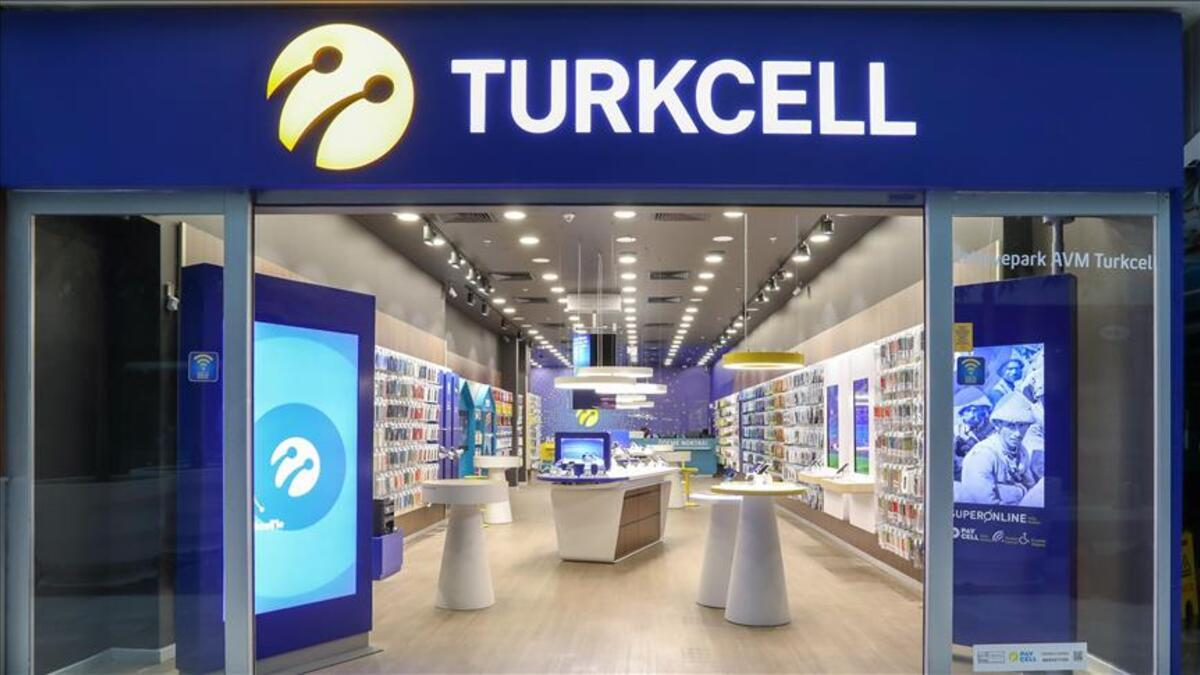turkcell: (265, 23, 414, 174)
